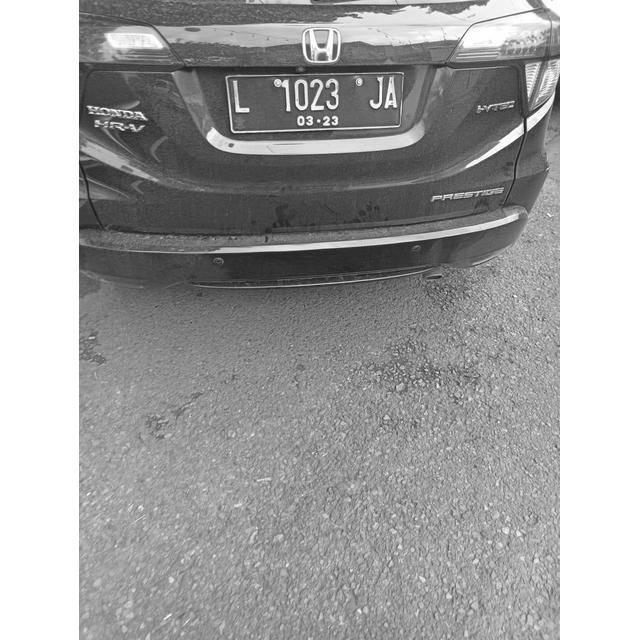license: (230, 75, 399, 127)
